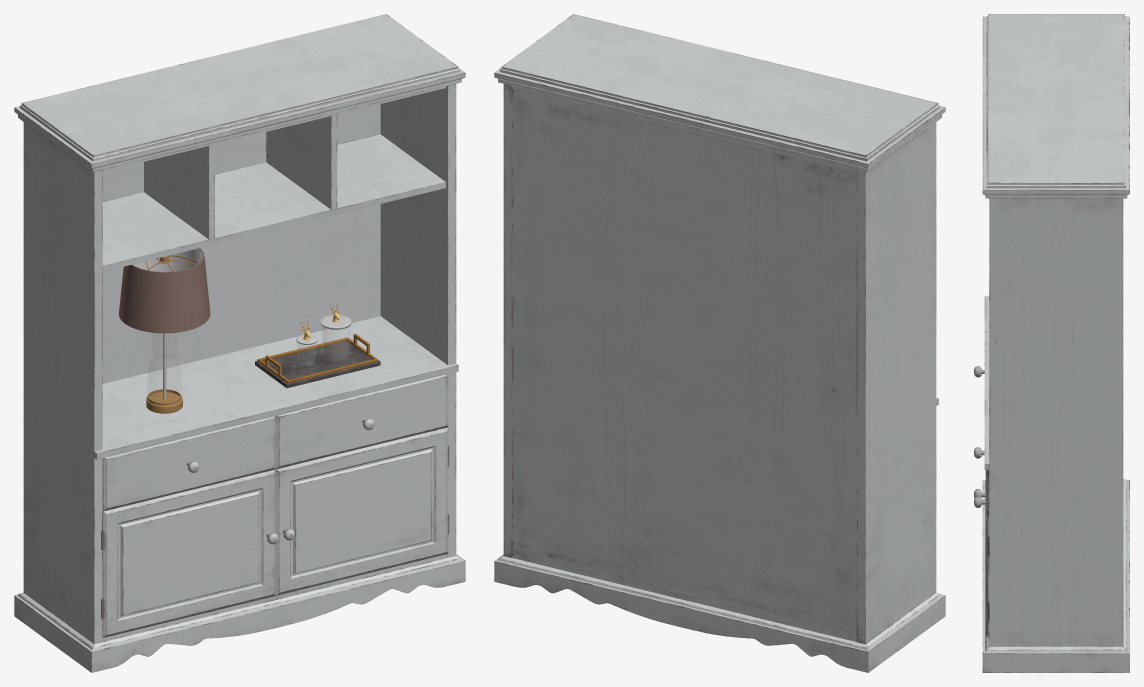
The model's file is traditional-freestanding-cabinet.glb.
The picture shows the model from 3 angles, left to right: view 1: azimuth 30°, elevation 25°; view 2: azimuth 150°, elevation 25°; view 3: azimuth 270°, elevation 25°; orthographic projection. The views are drawn at different scales.
Visible parts, largest first — view 1: Shelf2, subscattering; view 2: Shelf2; view 3: Shelf2.
Boxes of the visible parts, left/top/right/bottom form: Shelf2: left=14, top=14, right=465, bottom=672; subscattering: left=119, top=248, right=210, bottom=333; Shelf2: left=494, top=14, right=945, bottom=672; Shelf2: left=974, top=14, right=1129, bottom=672.
Bounding box in the file's own units: 1.38 × 1.81 × 0.5236.
5 materials, 5 textured.
